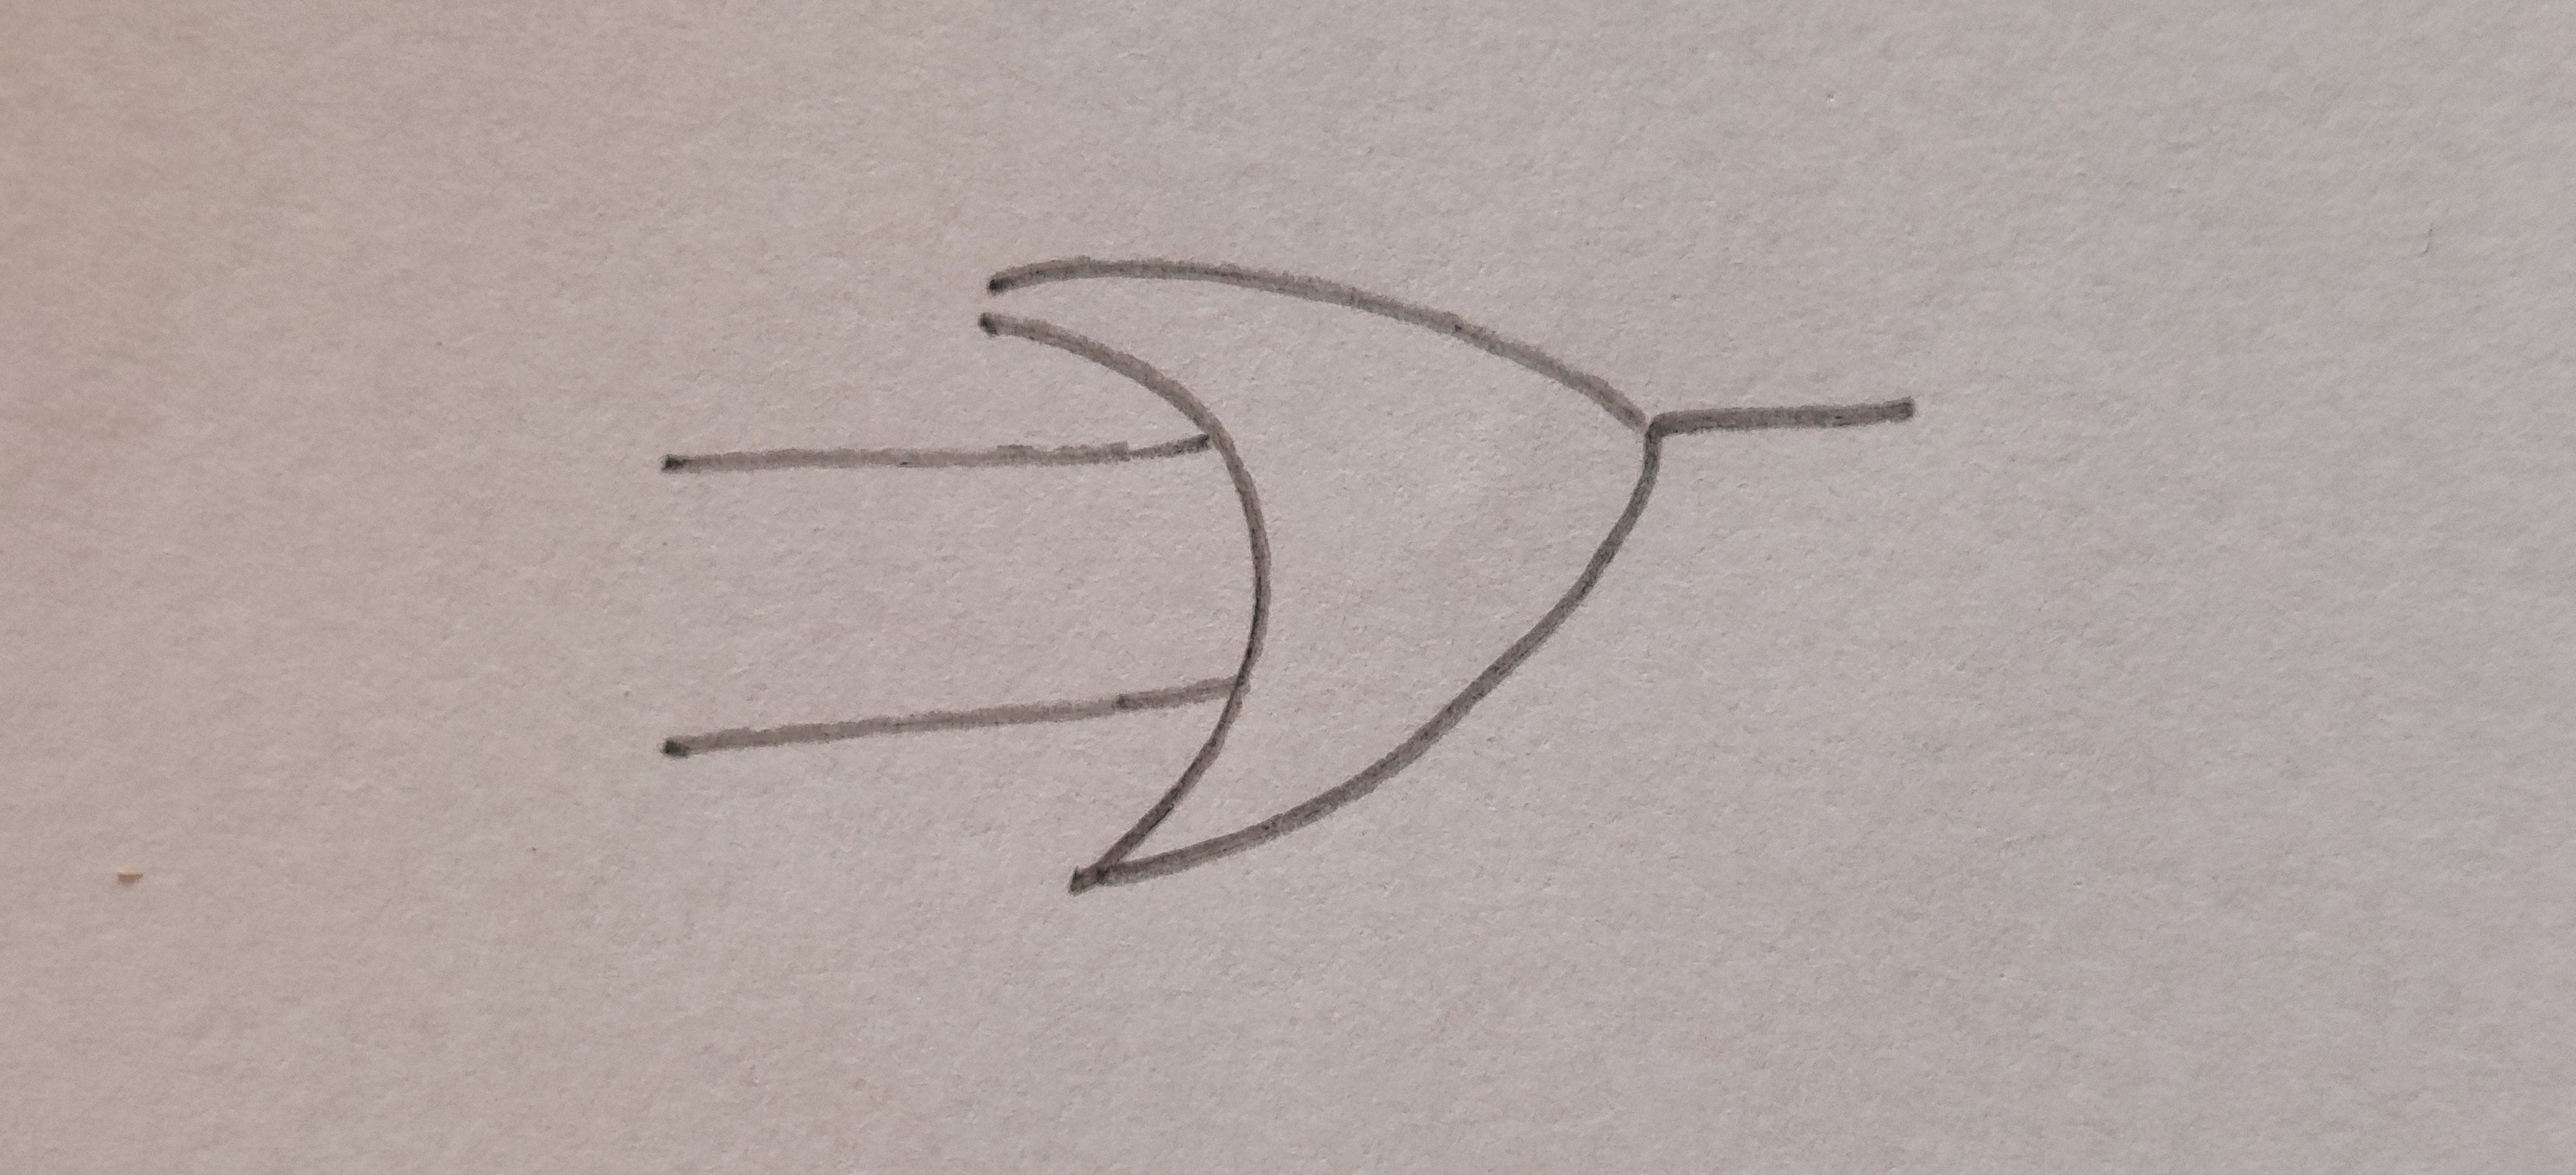or: (987, 260, 1656, 882)
